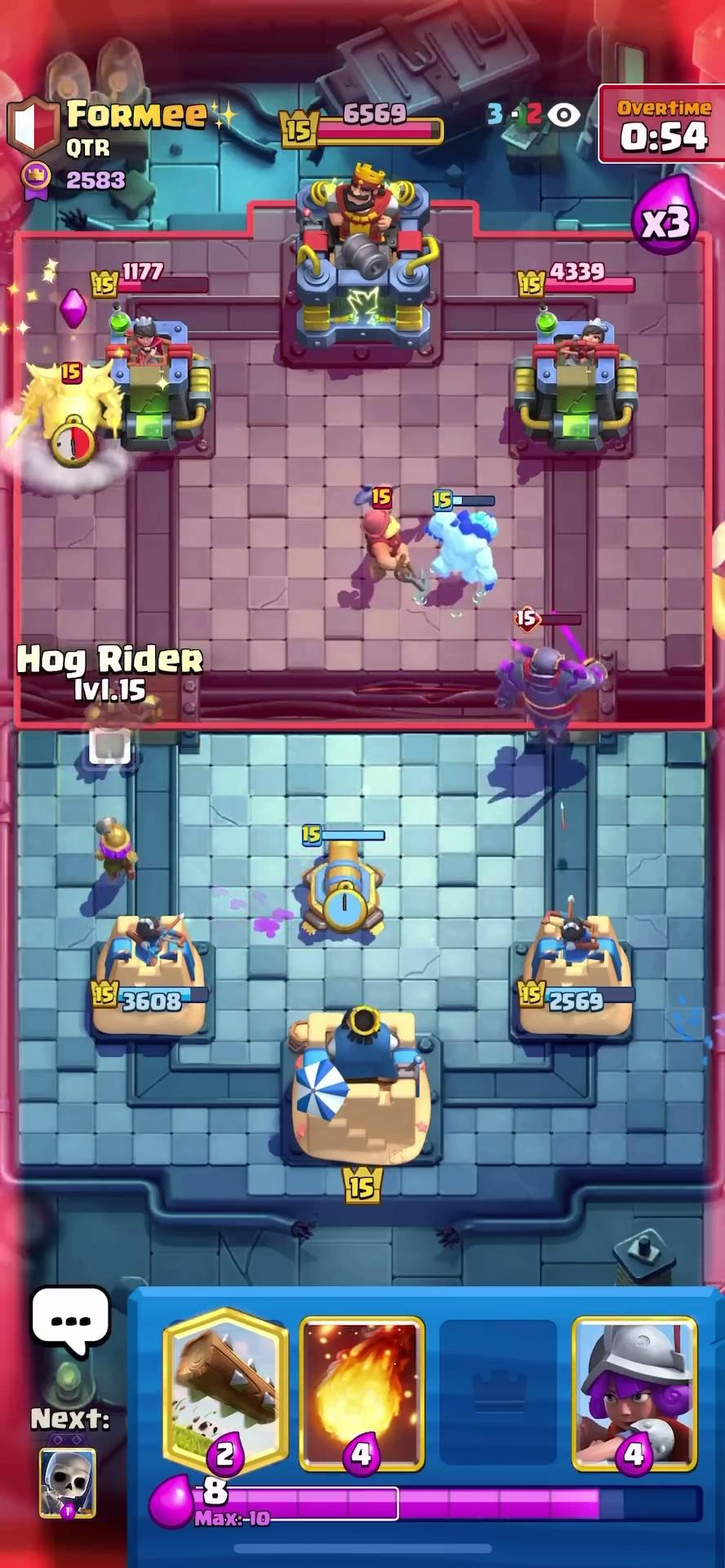cannon: (298, 827, 398, 933)
ice_golem: (420, 480, 518, 619)
musketeer: (71, 802, 161, 888)
